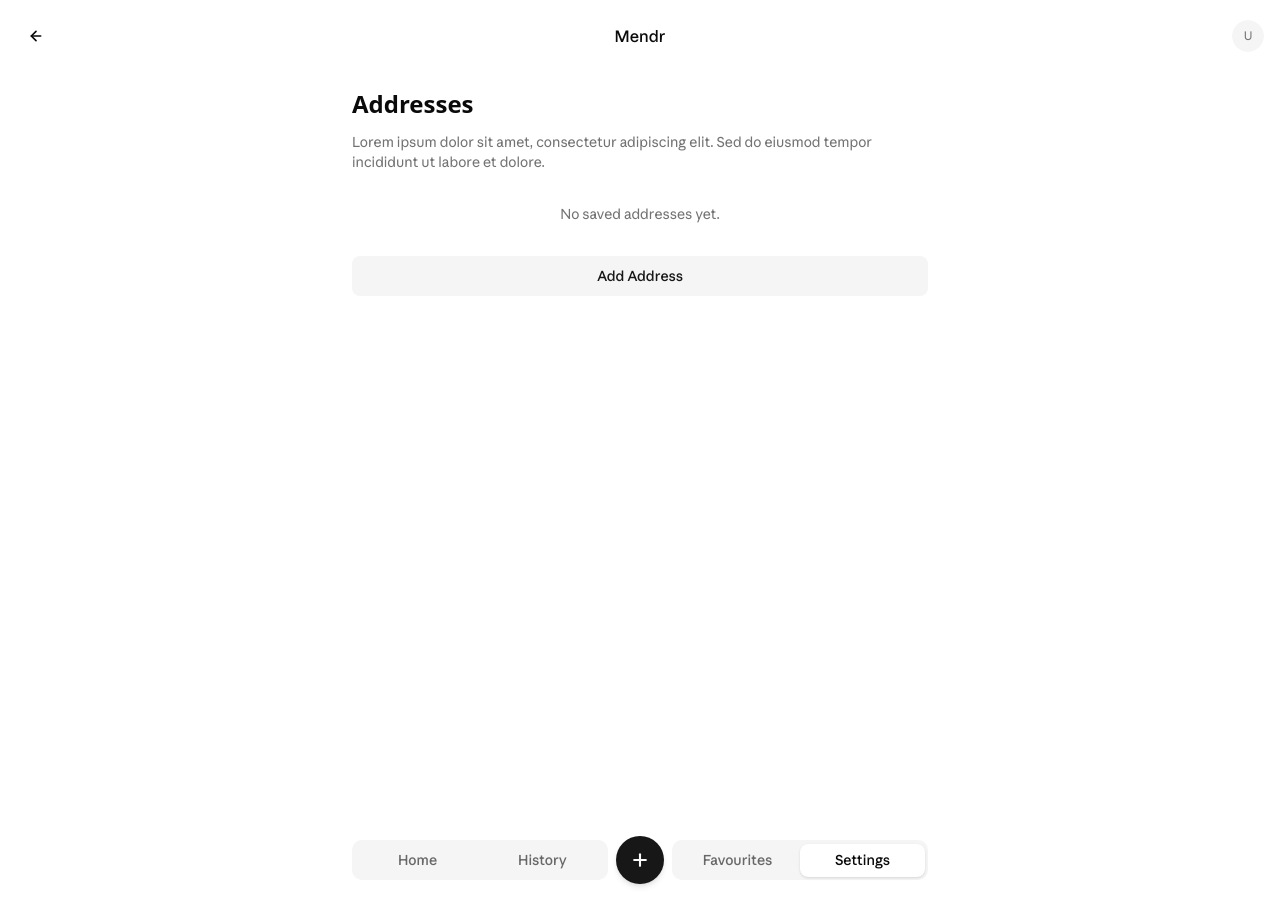
Test: settings/addresses/client.tsx › "Add Address" button shows the add form
The width and height of the screenshot is (1280, 900).
What coordinates should you click on to do the following:
click the button "Add Address"
I would click on:
 (640, 276)
Its box is [352,256,928,296].
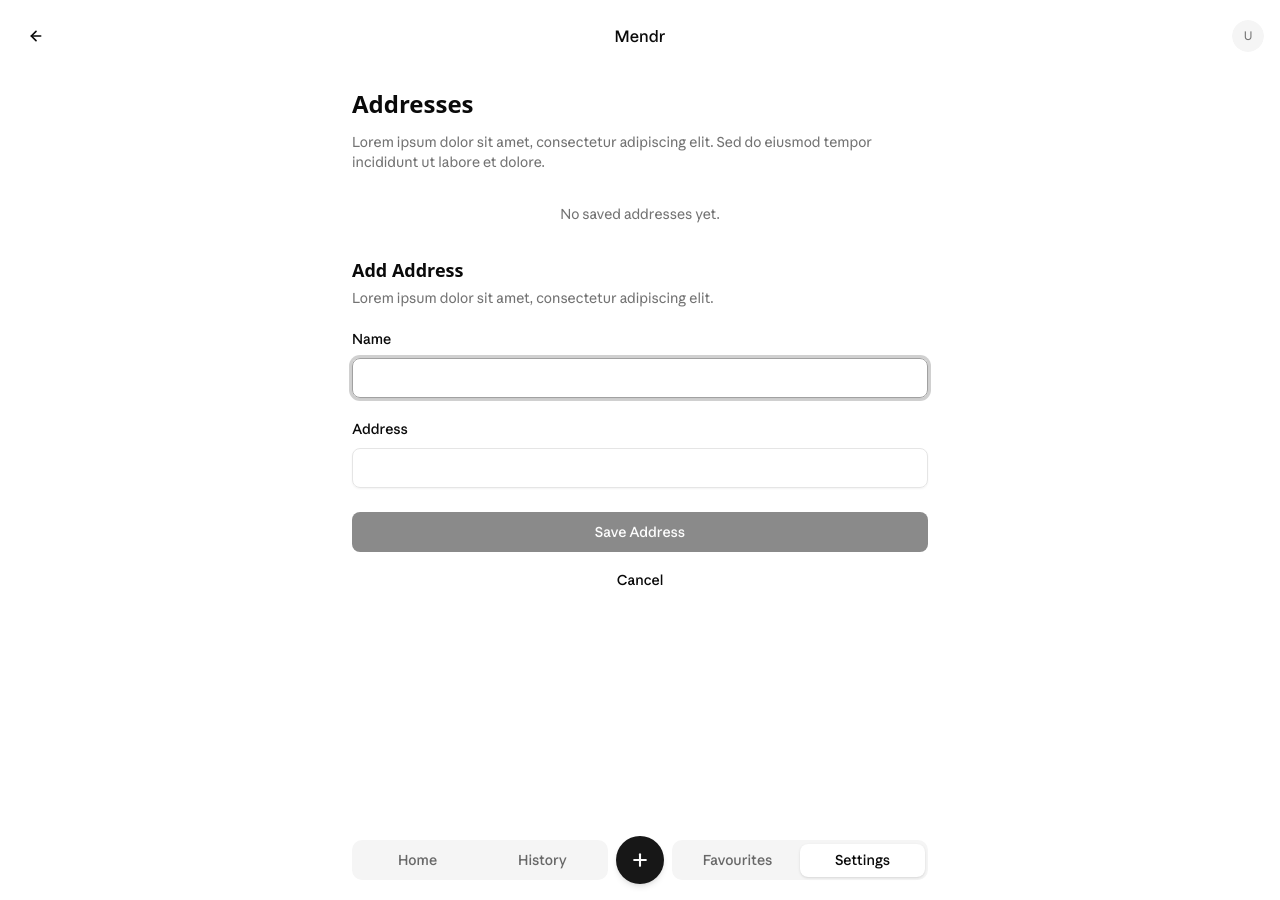
Check: the field labelled "Name" is shown, box [352,358,928,398]
Check: the field labelled "Address" is shown, box [352,448,928,488]
